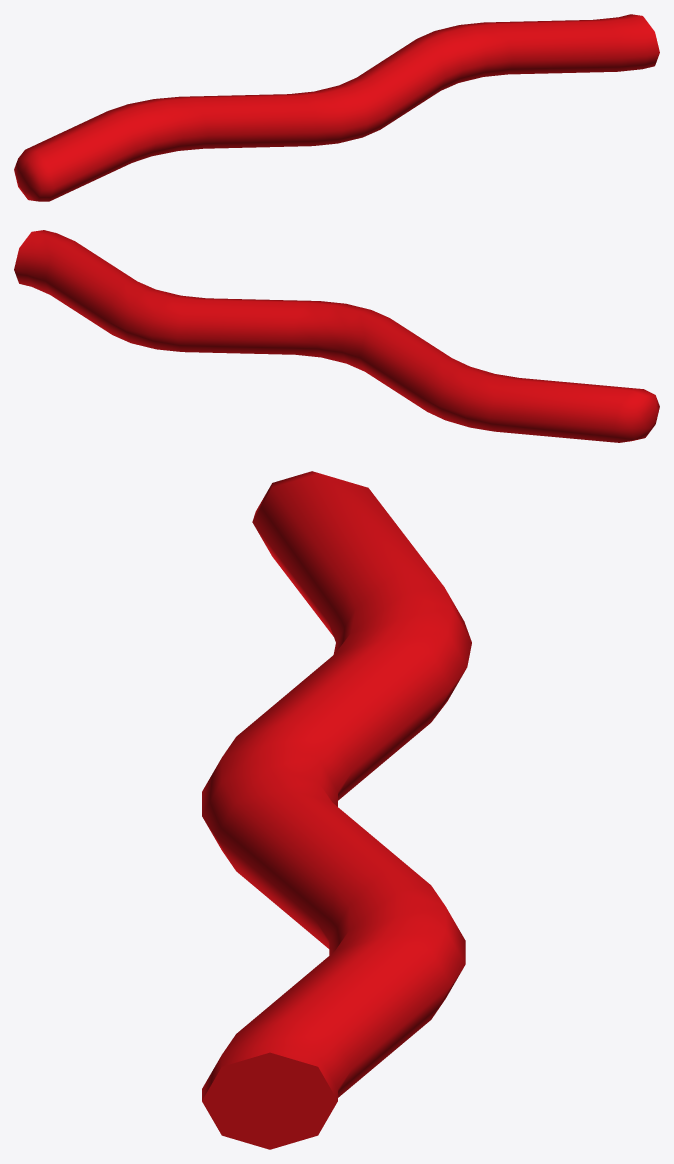
File: Souse_half.fbx
The picture shows the model from 3 angles, top to bottom: view 1: azimuth 30°, elevation 25°; view 2: azimuth 150°, elevation 25°; view 3: azimuth 270°, elevation 25°; orthographic projection. The views are drawn at different scales.
Visible parts, largest first — view 1: Souse_half; view 2: Souse_half; view 3: Souse_half.
Boxes of the visible parts, x1,y1,x2,y2 form: Souse_half: (14, 14, 659, 201); Souse_half: (14, 230, 659, 442); Souse_half: (202, 471, 471, 1149).
Bounding box in the file's own units: 76.28 × 14.66 × 5.82.
